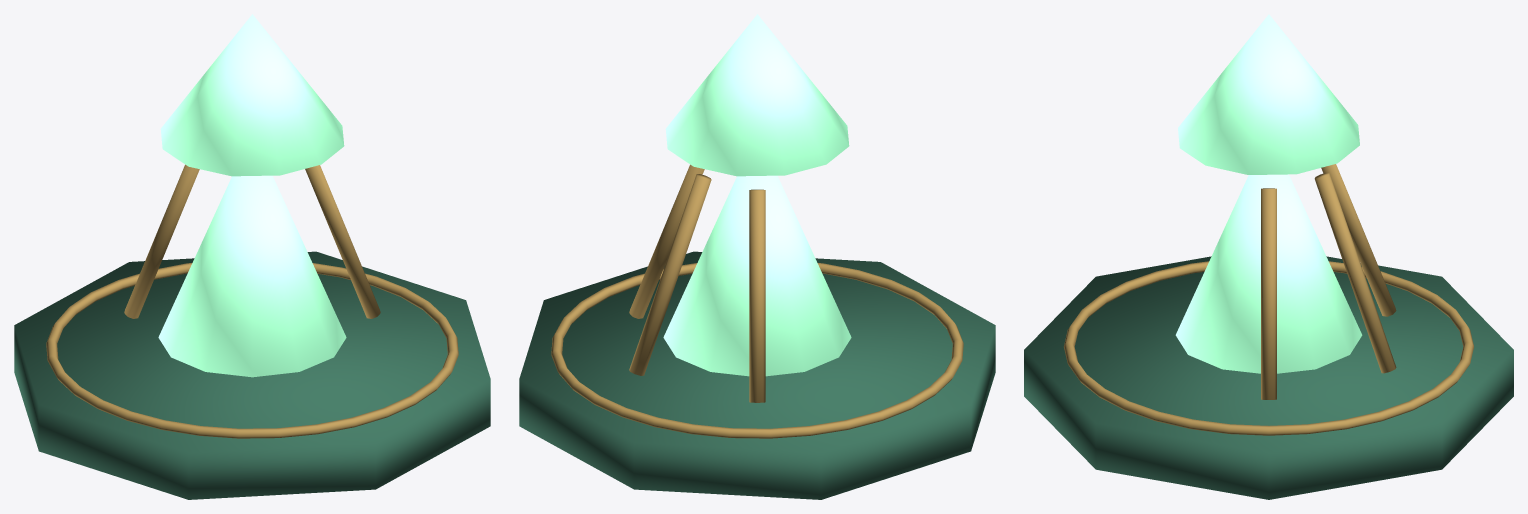
3 views of the same model, side by side, from view 1: azimuth 30°, elevation 25°; view 2: azimuth 150°, elevation 25°; view 3: azimuth 270°, elevation 25° (orthographic).
Visible parts, largest first — view 1: Hexagonal plinth, Lower crystal, Upper crystal, Inlaid rim, Brass setting, Brass setting.002; view 2: Hexagonal plinth, Lower crystal, Upper crystal, Inlaid rim, Brass setting.002, Brass setting.001, Brass setting; view 3: Hexagonal plinth, Lower crystal, Upper crystal, Inlaid rim, Brass setting.001, Brass setting, Brass setting.002.
Boxes of the visible parts, bbox=[...] form: Hexagonal plinth: bbox=[14, 251, 490, 499]; Lower crystal: bbox=[158, 175, 346, 377]; Upper crystal: bbox=[160, 14, 344, 176]; Inlaid rim: bbox=[46, 263, 458, 438]; Brass setting: bbox=[305, 165, 380, 318]; Brass setting.002: bbox=[124, 164, 199, 318]; Hexagonal plinth: bbox=[519, 251, 995, 499]; Lower crystal: bbox=[663, 175, 851, 376]; Upper crystal: bbox=[665, 14, 849, 176]; Inlaid rim: bbox=[551, 263, 963, 438]; Brass setting.002: bbox=[749, 189, 765, 402]; Brass setting.001: bbox=[629, 174, 711, 375]; Brass setting: bbox=[629, 164, 704, 318]; Hexagonal plinth: bbox=[1024, 256, 1513, 499]; Lower crystal: bbox=[1175, 174, 1362, 373]; Upper crystal: bbox=[1178, 14, 1359, 174]; Inlaid rim: bbox=[1064, 261, 1473, 435]; Brass setting.001: bbox=[1314, 173, 1396, 373]; Brass setting: bbox=[1261, 188, 1276, 399]; Brass setting.002: bbox=[1321, 164, 1396, 316].
Size of the model in its own units: 1.52 by 1.31 by 1.52.
